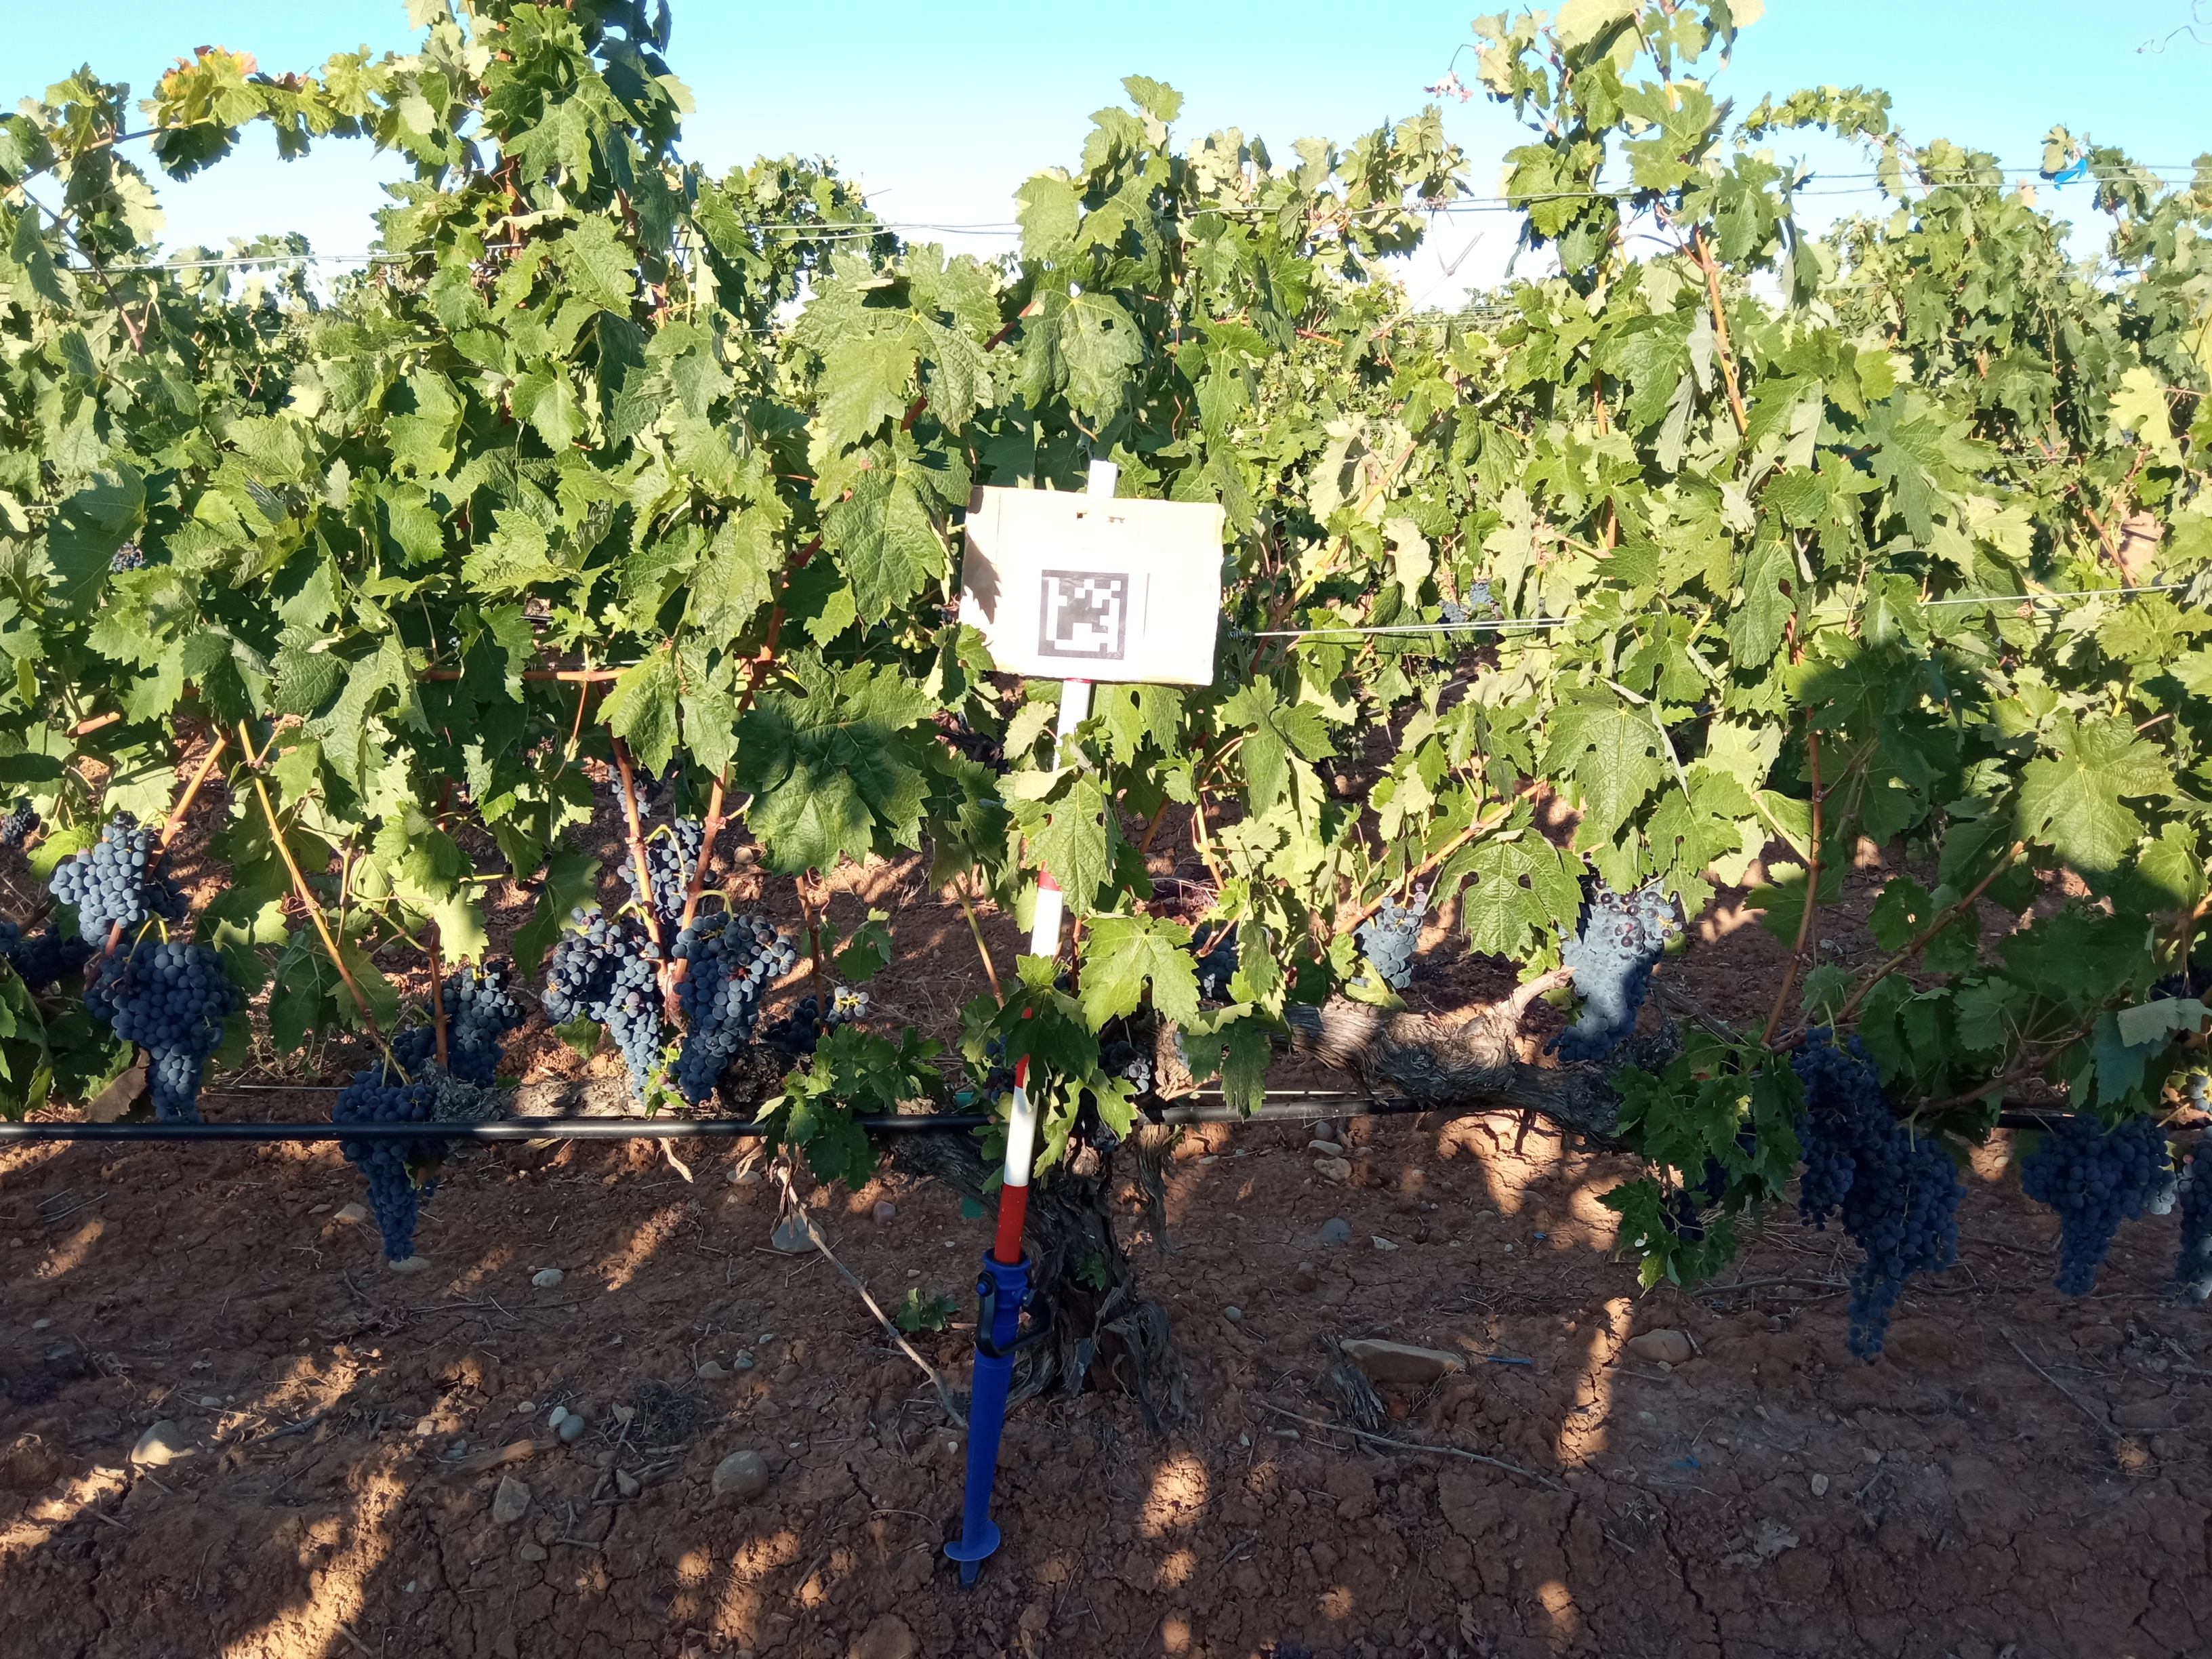grapes: (1791, 1028, 1965, 1361), (2020, 1114, 2175, 1298), (84, 941, 240, 1122), (1540, 871, 1684, 1065), (672, 915, 794, 1110), (542, 910, 660, 1101), (54, 812, 186, 943), (336, 1138, 442, 1262), (444, 962, 528, 1089), (1343, 880, 1430, 992), (761, 985, 871, 1053), (2181, 1075, 2212, 1310), (322, 1070, 437, 1122), (0, 918, 91, 985), (646, 821, 698, 918), (1190, 920, 1237, 999), (1076, 1087, 1123, 1152), (604, 765, 662, 817), (1094, 1040, 1151, 1089), (1655, 1187, 1705, 1241), (979, 1032, 1014, 1100), (390, 1030, 437, 1075), (608, 854, 639, 897), (1698, 1159, 1726, 1208)
